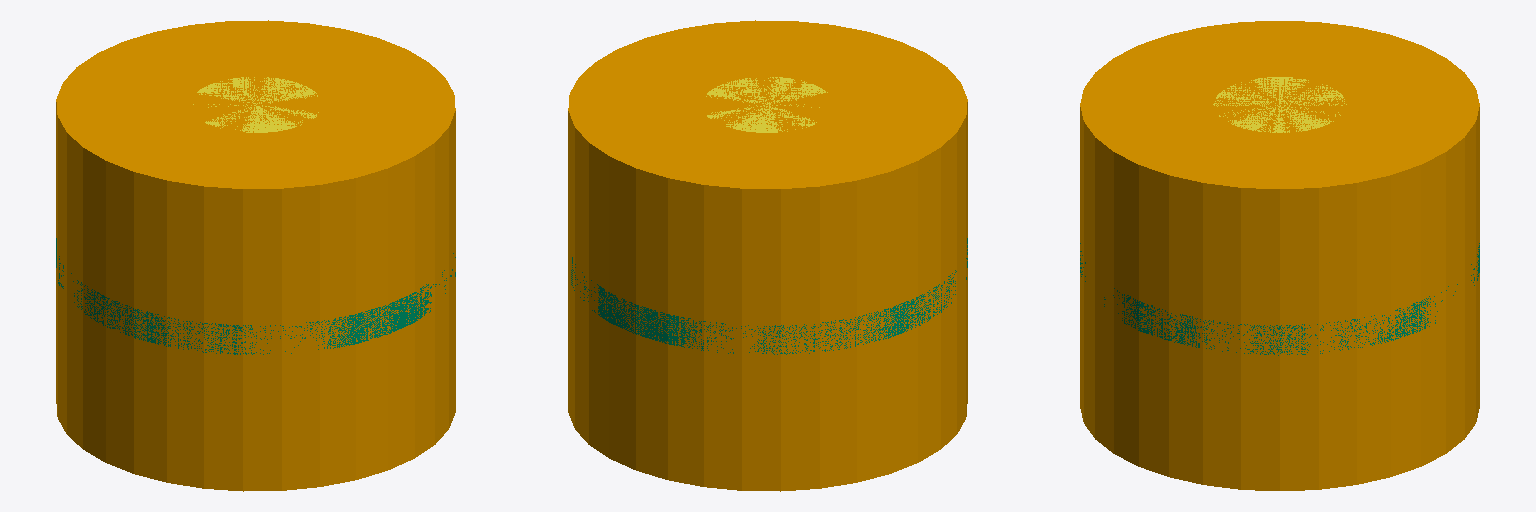
URDF robot description (4_cross):
<?xml version="1.0"?>

<robot name="4_cross">

    <!-- The base --> 
    <link name="base_link">
        <inertial>
            <origin xyz="0 0 .5" rpy="0 0 0"/>
            <mass value="1"/>
            <inertia ixx="0.1" ixy="0.0" ixz="0.0" iyy="0.1" iyz="0.0" izz="0.1"/>
        </inertial>
        <visual>
            <origin xyz="0 0 .5" rpy="0 0 0"/>
            <geometry>
                <cylinder length="1" radius="0.6"/>
            </geometry>
        </visual>
        <collision>
            <origin xyz="0 0 .5" rpy="0 0 0"/>
            <geometry>
                <cylinder length="1" radius="0.6"/>
            </geometry>
        </collision>
    </link>

    <!-- 0 -->
    <link name="0_link">
        <inertial>
            <origin xyz="0 0 0" rpy="0 0 0"/>
            <mass value="1"/>
            <inertia ixx="0.01" ixy="0.0" ixz="0.0" iyy="0.01" iyz="0.0" izz="0.01"/>
        </inertial>
        <visual>
            <origin xyz="0 0 0" rpy="0 0 0"/>
            <geometry>
                <cylinder length="0.45" radius="0.2"/>
            </geometry>
        </visual>
        <collision>
            <origin xyz="0 0 0" rpy="0 0 0"/>
            <geometry>
                <cylinder length="0.45" radius="0.2"/>
            </geometry>
        </collision>
    </link>

    <!-- Joint from base to 0 -->
    <joint name="base_0_joint" type="fixed">
        <parent link="base_link"/>
        <child link="0_link"/>
        <origin xyz="0 0 0.225" rpy="0 0 0"/>
    </joint>

    <!-- 1 -->
    <link name="1_link">
        <inertial>
            <origin xyz="0 0 0" rpy="0 0 0"/>
            <mass value="1"/>
            <inertia ixx="0.01" ixy="0.0" ixz="0.0" iyy="0.01" iyz="0.0" izz="0.01"/>
        </inertial>
        <visual>
            <origin xyz="0 0 0" rpy="0 0 0"/>
            <geometry>
                <cylinder length="0.1" radius="0.6"/>
            </geometry>
        </visual>
        <collision>
            <origin xyz="0 0 0" rpy="0 0 0"/>
            <geometry>
                <cylinder length="0.1" radius="0.6"/>
            </geometry>
        </collision>
    </link>

    <!-- Joint from 0 to 1 -->
    <joint name="0_1_joint" type="fixed">
        <parent link="0_link"/>
        <child link="1_link"/>
        <origin xyz="0 0 0.275" rpy="0 0 0"/>
    </joint>

    <!-- 2 -->
    <link name="2_link">
        <inertial>
            <origin xyz="0 0 0" rpy="0 0 0"/>
            <mass value="1"/>
            <inertia ixx="0.01" ixy="0.0" ixz="0.0" iyy="0.01" iyz="0.0" izz="0.01"/>
        </inertial>
        <visual>
            <origin xyz="0 0 0" rpy="0 0 0"/>
            <geometry>
                <cylinder length="0.45" radius="0.2"/>
            </geometry>
        </visual>
        <collision>
            <origin xyz="0 0 0" rpy="0 0 0"/>
            <geometry>
                <cylinder length="0.45" radius="0.2"/>
            </geometry>
        </collision>
    </link>

    <!-- Joint from 1 to 2 -->
    <joint name="1_2_joint" type="fixed">
        <parent link="1_link"/>
        <child link="2_link"/>
        <origin xyz="0 0 0.275" rpy="0 0 0"/>
    </joint>

</robot>

--- What the picture shows (computed from the rendered views, not written in the file) ---
The picture shows the robot from 3 angles, left to right: view 1: azimuth 30°, elevation 25°; view 2: azimuth 150°, elevation 25°; view 3: azimuth 270°, elevation 25°; orthographic projection.
Robot: 4_cross — 4 links, 3 joints (3 fixed); root link base_link; default pose: every joint at zero.
Visible links, largest first — view 1: base_link, 1_link, 2_link; view 2: base_link, 1_link, 2_link; view 3: base_link, 1_link, 2_link.
Boxes of the visible links, box(x1,y1,x2,y2) form: base_link: box(56, 20, 455, 491); 1_link: box(56, 238, 455, 354); 2_link: box(193, 77, 318, 132); base_link: box(568, 20, 967, 491); 1_link: box(571, 238, 967, 354); 2_link: box(706, 77, 827, 132); base_link: box(1080, 21, 1479, 490); 1_link: box(1080, 243, 1479, 355); 2_link: box(1213, 77, 1346, 132).
Size in the robot's own frame: 1.2 by 1.2 by 1 metres.
Geometry: primitives only (box / cylinder / sphere), no mesh files.
